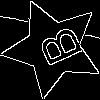B: (28, 23, 85, 73)
